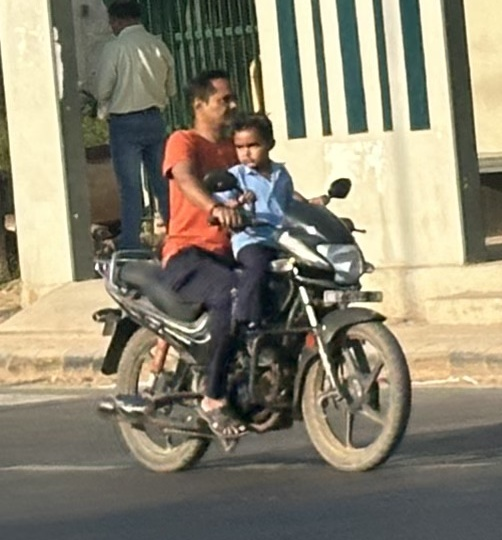BikeWithRider: (82, 62, 422, 482)
NoHelmet: (179, 63, 244, 139), (225, 108, 282, 170)
